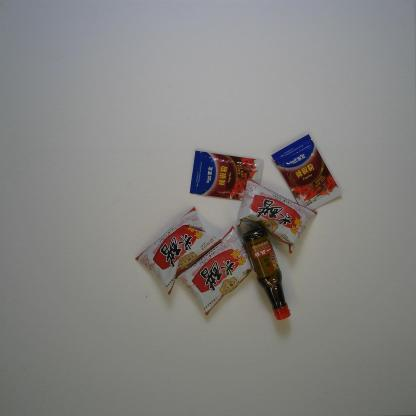Seasoner: (134, 206, 224, 296), (176, 225, 254, 316), (235, 177, 319, 255), (271, 133, 343, 211), (241, 227, 292, 321), (189, 149, 264, 201)
